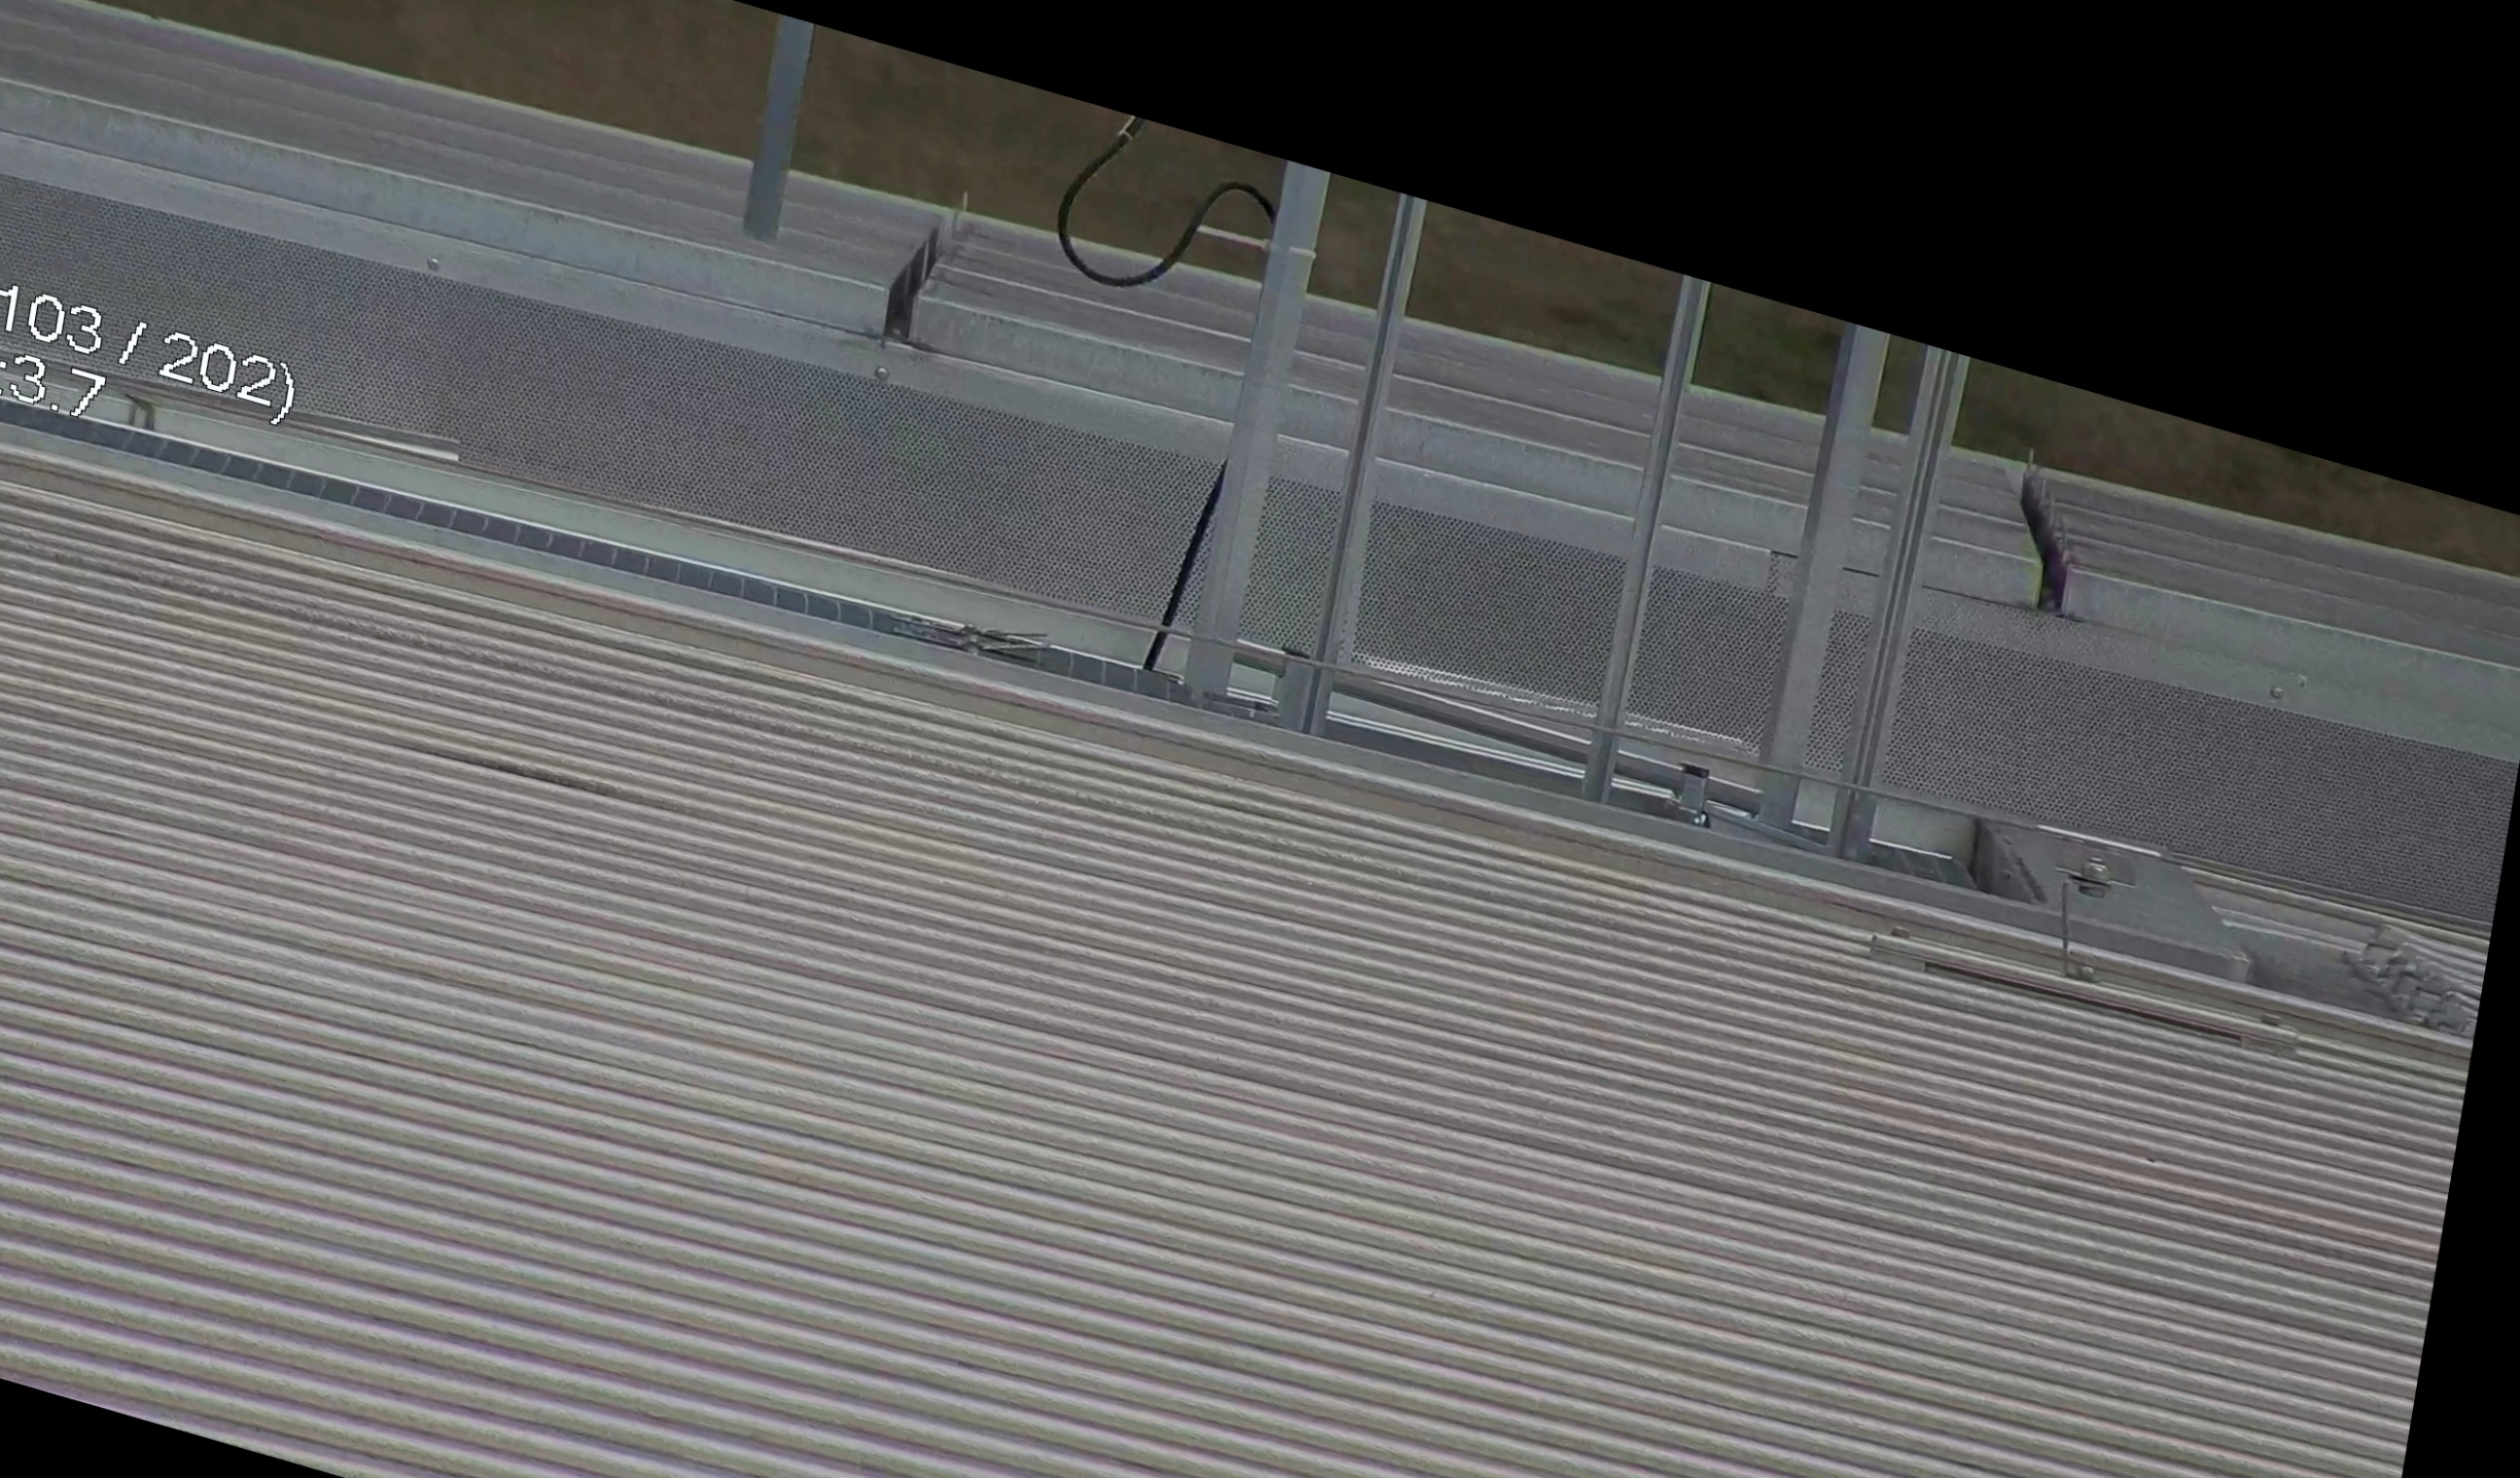Other: (1978, 445, 2117, 633)
